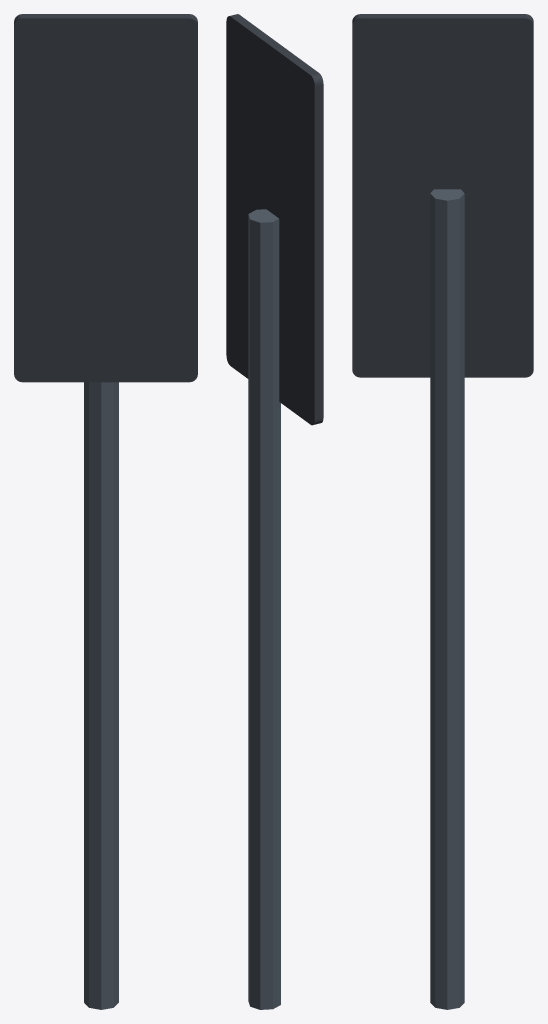
Rendered from SignPost.fbx.
3 renders of one model, left to right at view 1: azimuth 90°, elevation 25°; view 2: azimuth 210°, elevation 25°; view 3: azimuth 270°, elevation 25°, orthographic. The views are drawn at different scales.
Parts seen in each view (by area): view 1: SignPole; view 2: SignPole; view 3: SignPole.
Boxes of the visible parts, x1=… form: SignPole: x1=14, y1=14, x2=197, y2=1009; SignPole: x1=226, y1=14, x2=323, y2=1009; SignPole: x1=352, y1=14, x2=533, y2=1009.
Size of the model in its own units: 6 by 174 by 29.17.
